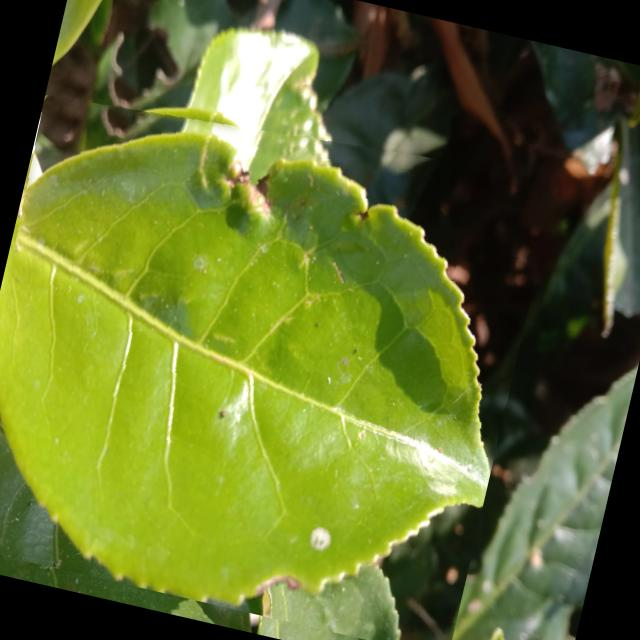Category B(2-4 days): (0, 61, 557, 640)
